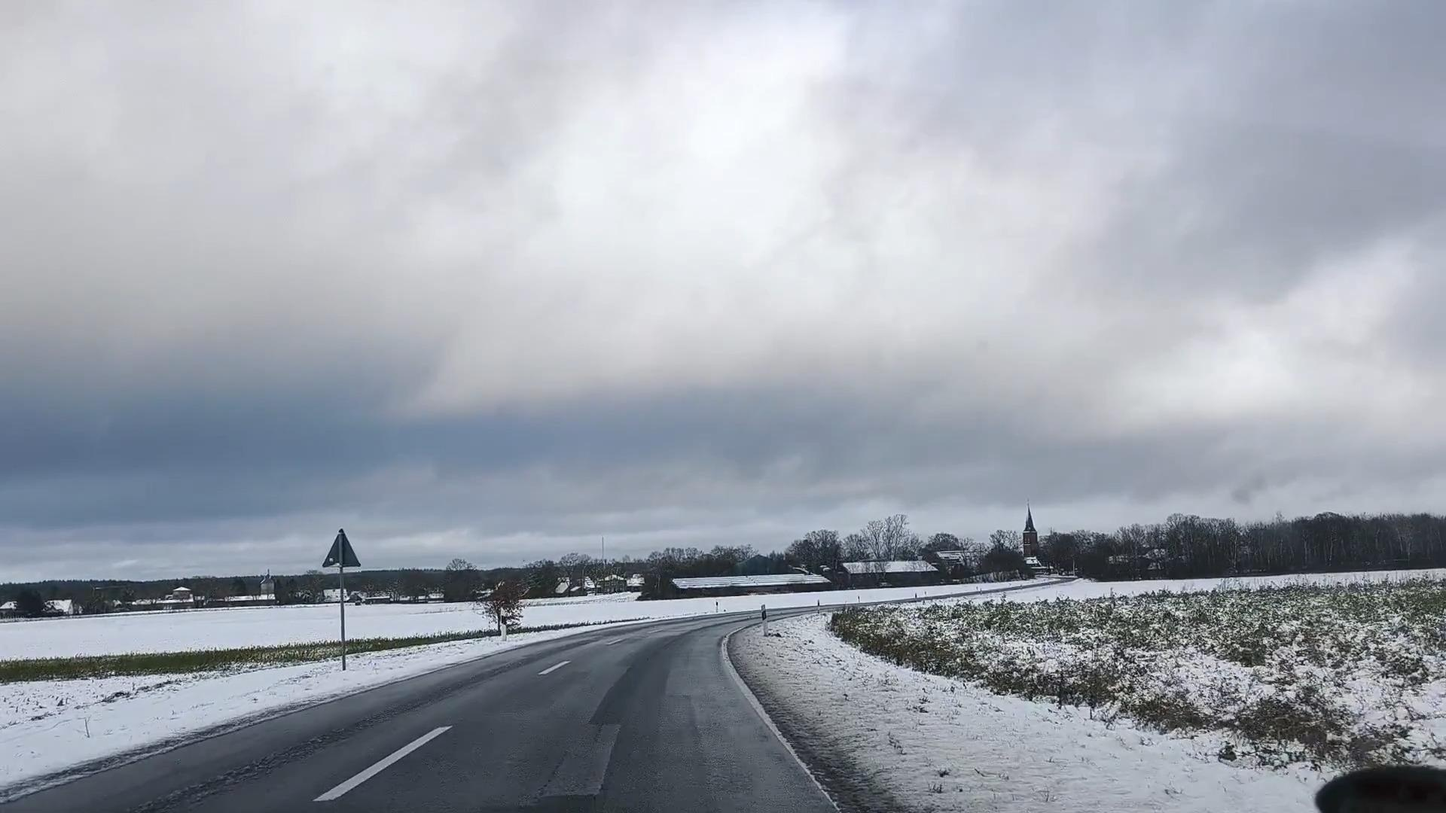Snow: (731, 586, 1446, 813), (0, 604, 621, 790)
dry: (0, 585, 1072, 813)
